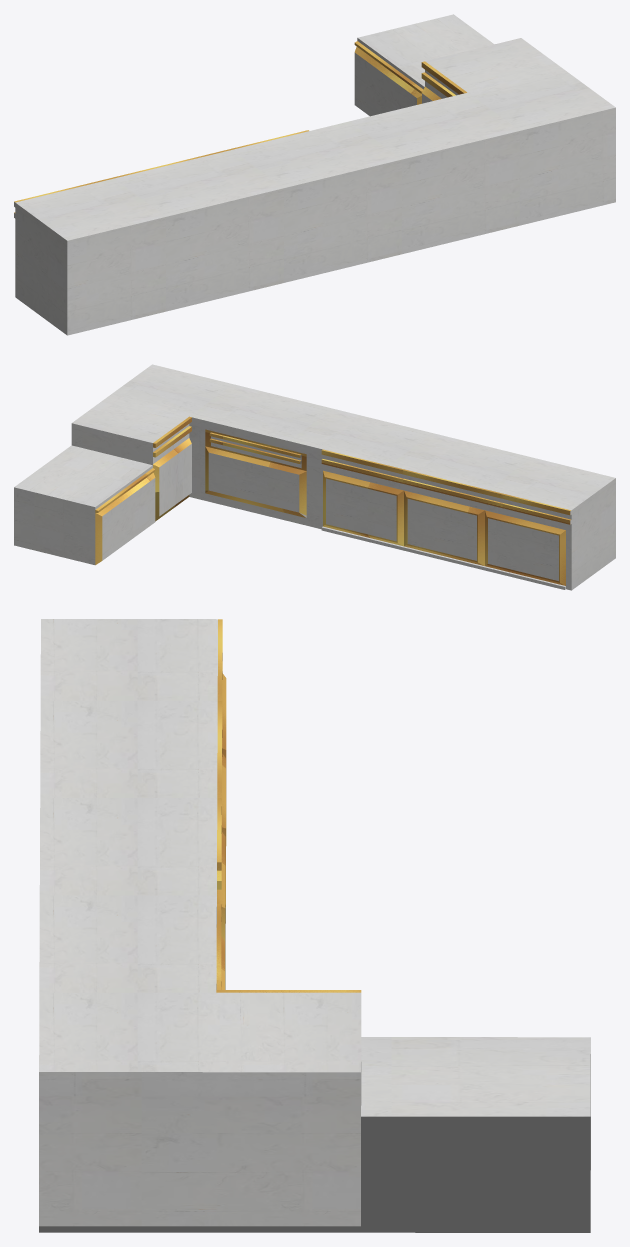
Rendered from Mueble2.obj.
3 renders of one model, top to bottom at view 1: azimuth 30°, elevation 25°; view 2: azimuth 150°, elevation 25°; view 3: azimuth 270°, elevation 25°, orthographic. The views are drawn at different scales.
Visible parts, largest first — view 1: polySurface2 Muebles1:polySurface8; view 2: polySurface2 Muebles1:polySurface8; view 3: polySurface2 Muebles1:polySurface8.
Part boxes in pixels (left/top/right/bottom): polySurface2 Muebles1:polySurface8: left=14, top=14, right=615, bottom=335; polySurface2 Muebles1:polySurface8: left=14, top=364, right=615, bottom=590; polySurface2 Muebles1:polySurface8: left=39, top=619, right=590, bottom=1232.
Size of the model in its own units: 25.24 by 4.17 by 12.98.
3 materials, 2 textured.
